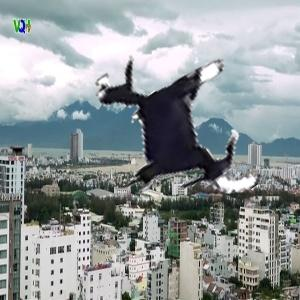drone: (82, 24, 285, 227)
